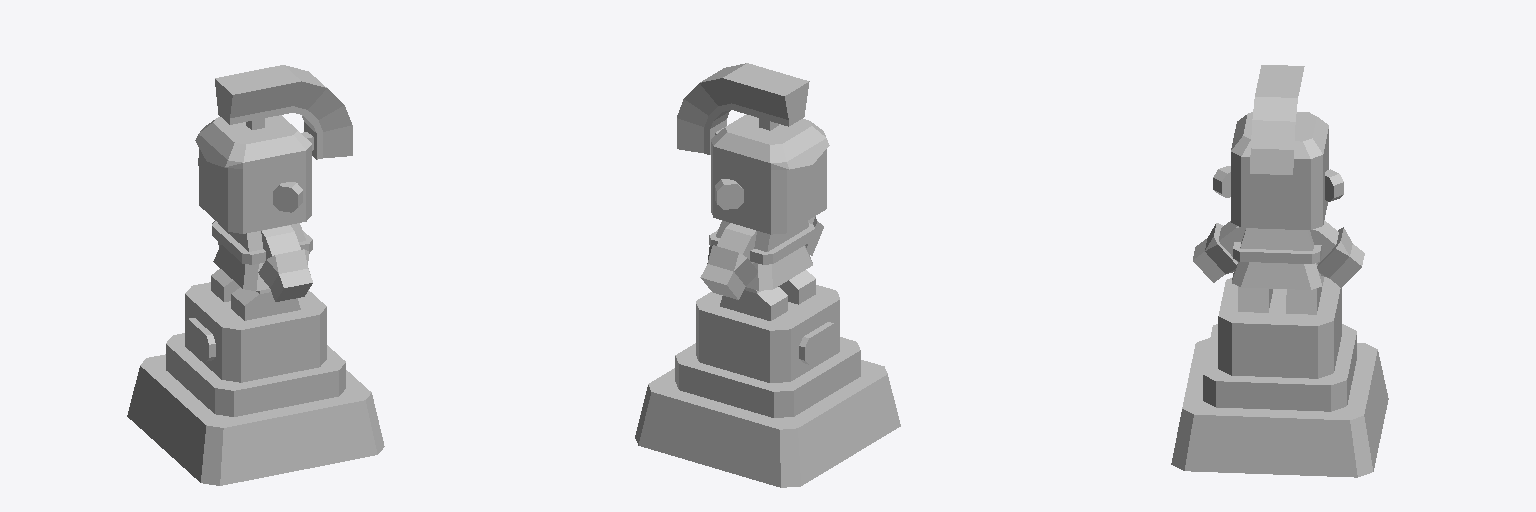
The model's file is @deco.002.obj.
3 views of the same model, side by side, from view 1: azimuth 30°, elevation 25°; view 2: azimuth 150°, elevation 25°; view 3: azimuth 270°, elevation 25° (orthographic).
Visible parts, largest first — view 1: statue; view 2: statue; view 3: statue.
Part boxes in pixels (left/top/right/bottom): statue: left=127, top=65, right=384, bottom=485; statue: left=635, top=63, right=900, bottom=487; statue: left=1171, top=65, right=1388, bottom=477.
Size of the model in its own units: 3.75 by 6.68 by 3.75.